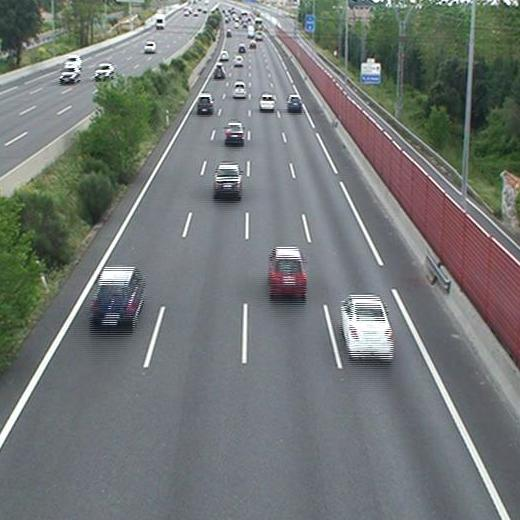car: (340, 296, 393, 358), (93, 269, 143, 323), (270, 249, 306, 293), (215, 166, 241, 195), (225, 124, 244, 143), (287, 95, 303, 111), (198, 95, 212, 113), (259, 95, 274, 111), (233, 83, 246, 97), (213, 68, 224, 77), (233, 56, 242, 66), (220, 51, 229, 60)
